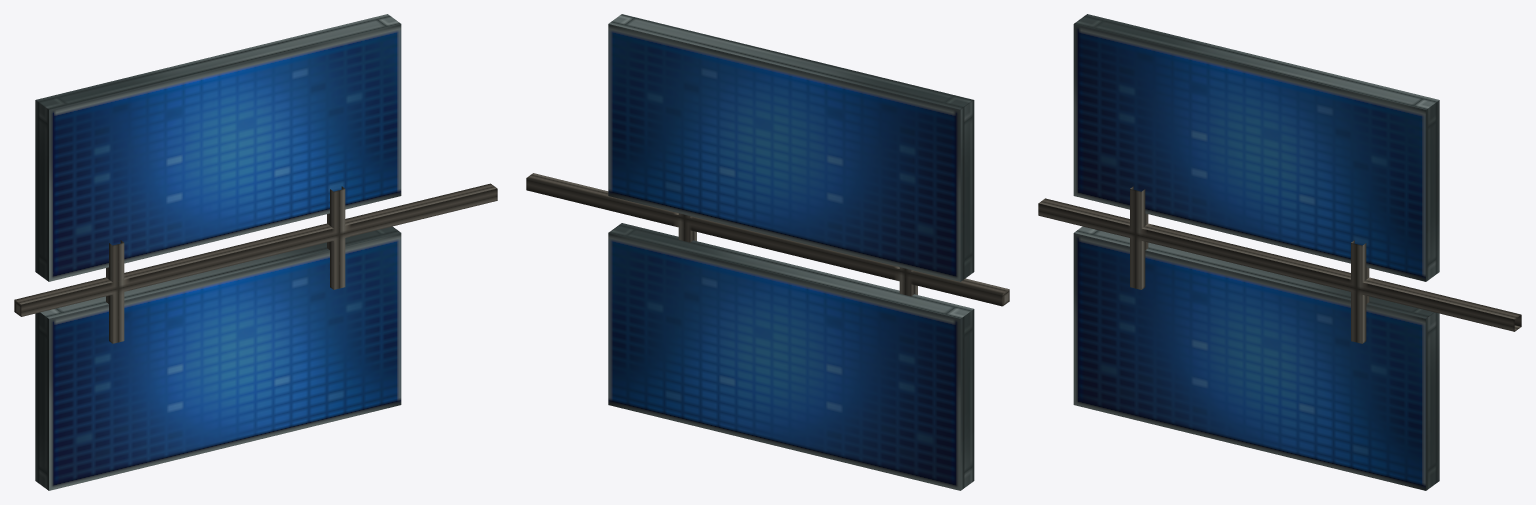
Rendered from acs19.obj.
3 views of the same model, side by side, from view 1: azimuth 30°, elevation 25°; view 2: azimuth 150°, elevation 25°; view 3: azimuth 330°, elevation 25° (orthographic).
Visible parts, largest first — view 1: frm-cube1, frm-cube2, frm-acs19; view 2: frm-cube1, frm-cube2, frm-acs19; view 3: frm-cube1, frm-cube2, frm-acs19.
Part boxes in pixels (bbox=[...]): frm-cube1: bbox=[35, 14, 401, 281]; frm-cube2: bbox=[35, 226, 401, 490]; frm-acs19: bbox=[14, 183, 497, 343]; frm-cube1: bbox=[608, 14, 974, 281]; frm-cube2: bbox=[608, 223, 974, 490]; frm-acs19: bbox=[526, 173, 1009, 306]; frm-cube1: bbox=[1073, 14, 1439, 281]; frm-cube2: bbox=[1073, 226, 1439, 490]; frm-acs19: bbox=[1038, 186, 1521, 343].
Bounding box in the file's own units: 8.11 × 6.2 × 0.5147.
1 material, 1 textured.
